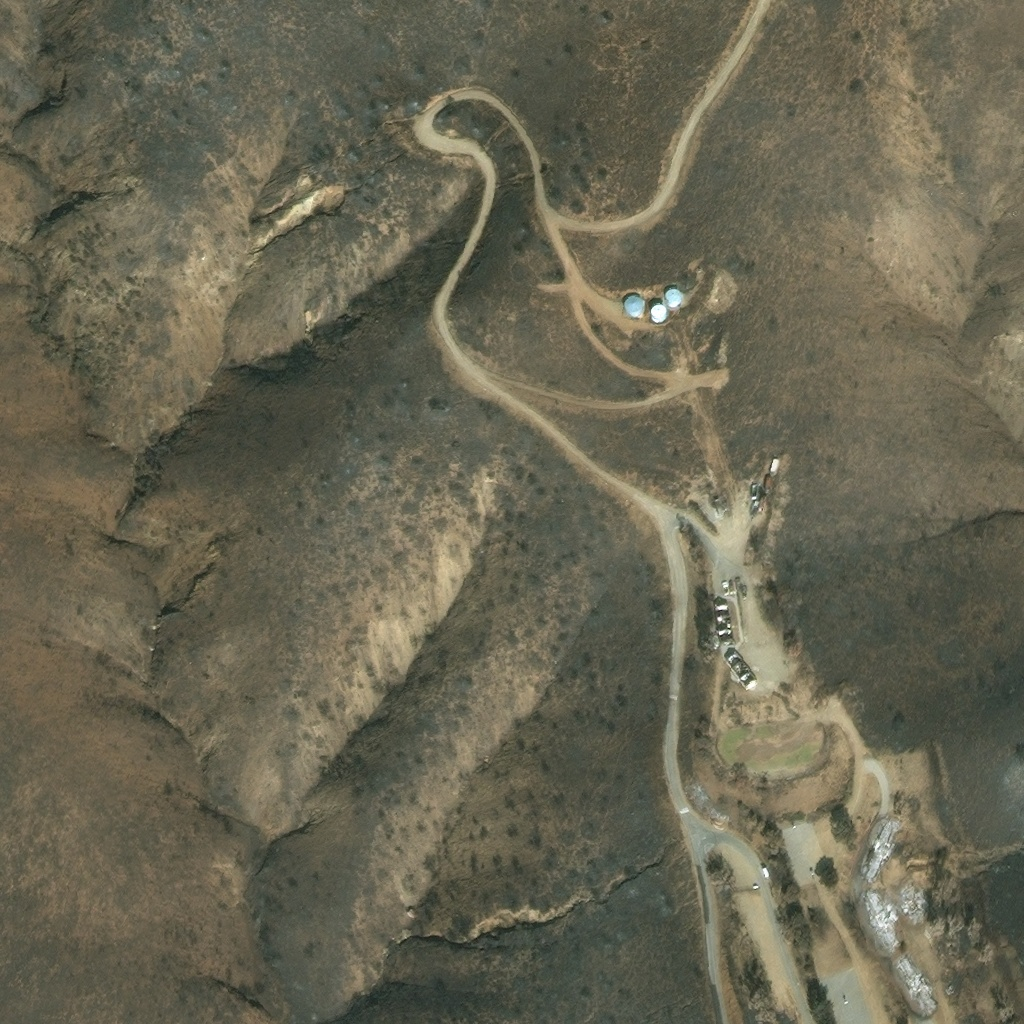0 no-damage: (622, 297, 645, 318), (663, 290, 682, 309), (650, 307, 667, 325), (768, 461, 780, 478), (765, 480, 774, 492), (762, 866, 770, 876)
2 major-damage: (726, 653, 758, 690), (714, 606, 735, 645), (749, 503, 761, 520), (750, 486, 758, 500)
3 destroyed: (861, 885, 904, 949), (861, 814, 902, 879), (896, 948, 939, 1009), (899, 879, 934, 922), (710, 498, 726, 521)
